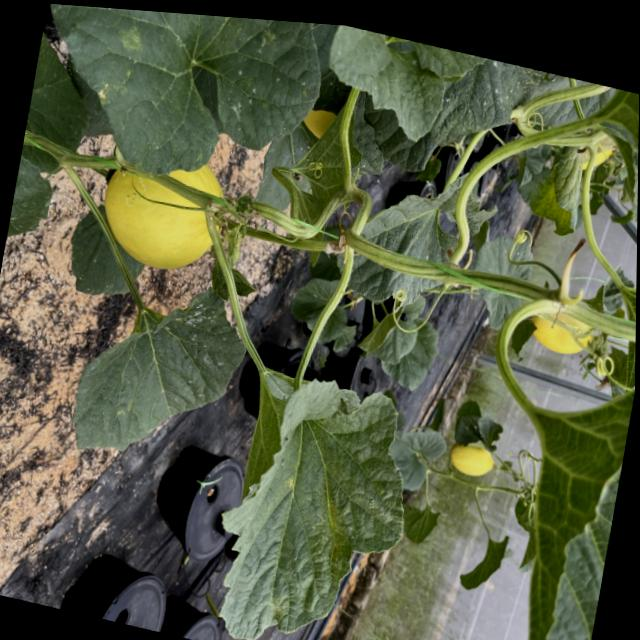downy mildew: (20, 2, 332, 214), (203, 356, 426, 640), (73, 260, 255, 485), (315, 23, 498, 158)
